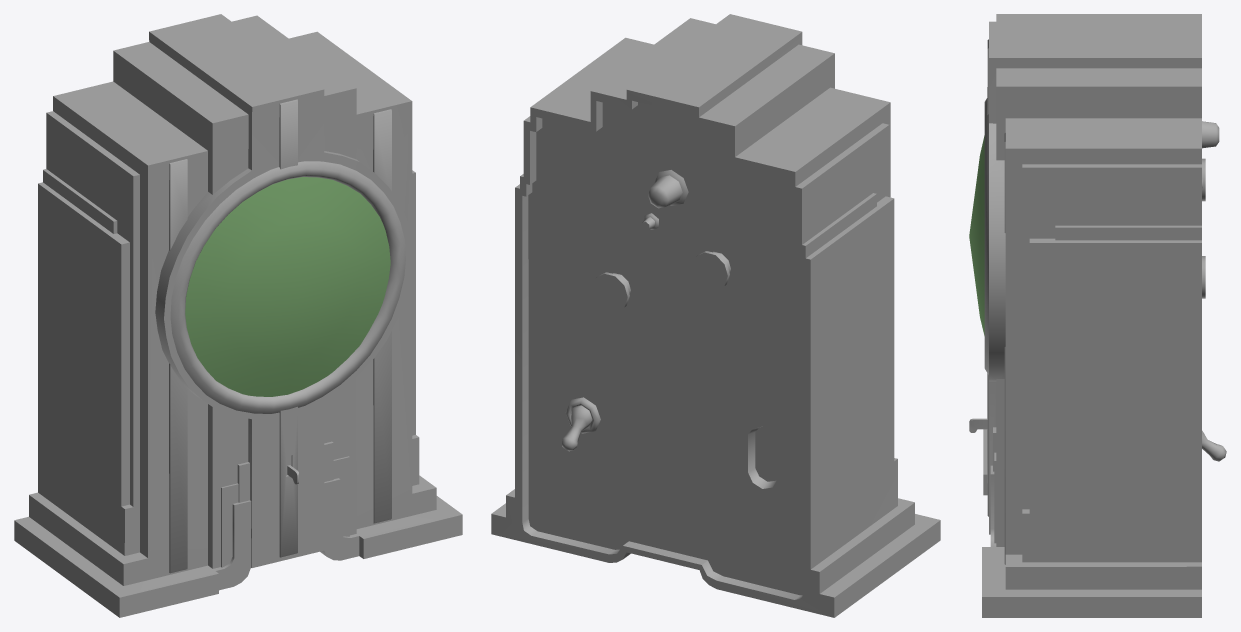
Rendered from SM_Clock_01a.fbx.
3 views of the same model, side by side, from view 1: azimuth 30°, elevation 25°; view 2: azimuth 150°, elevation 25°; view 3: azimuth 270°, elevation 25° (orthographic). The views are drawn at different scales.
Parts seen in each view (by area): view 1: SM_Clock_01a; view 2: SM_Clock_01a; view 3: SM_Clock_01a.
Boxes of the visible parts, x1,y1,x2,y2 form: SM_Clock_01a: (14, 14, 462, 617); SM_Clock_01a: (491, 14, 940, 617); SM_Clock_01a: (969, 14, 1226, 617).
Bounding box in the file's own units: 43.12 × 57.28 × 27.19.
